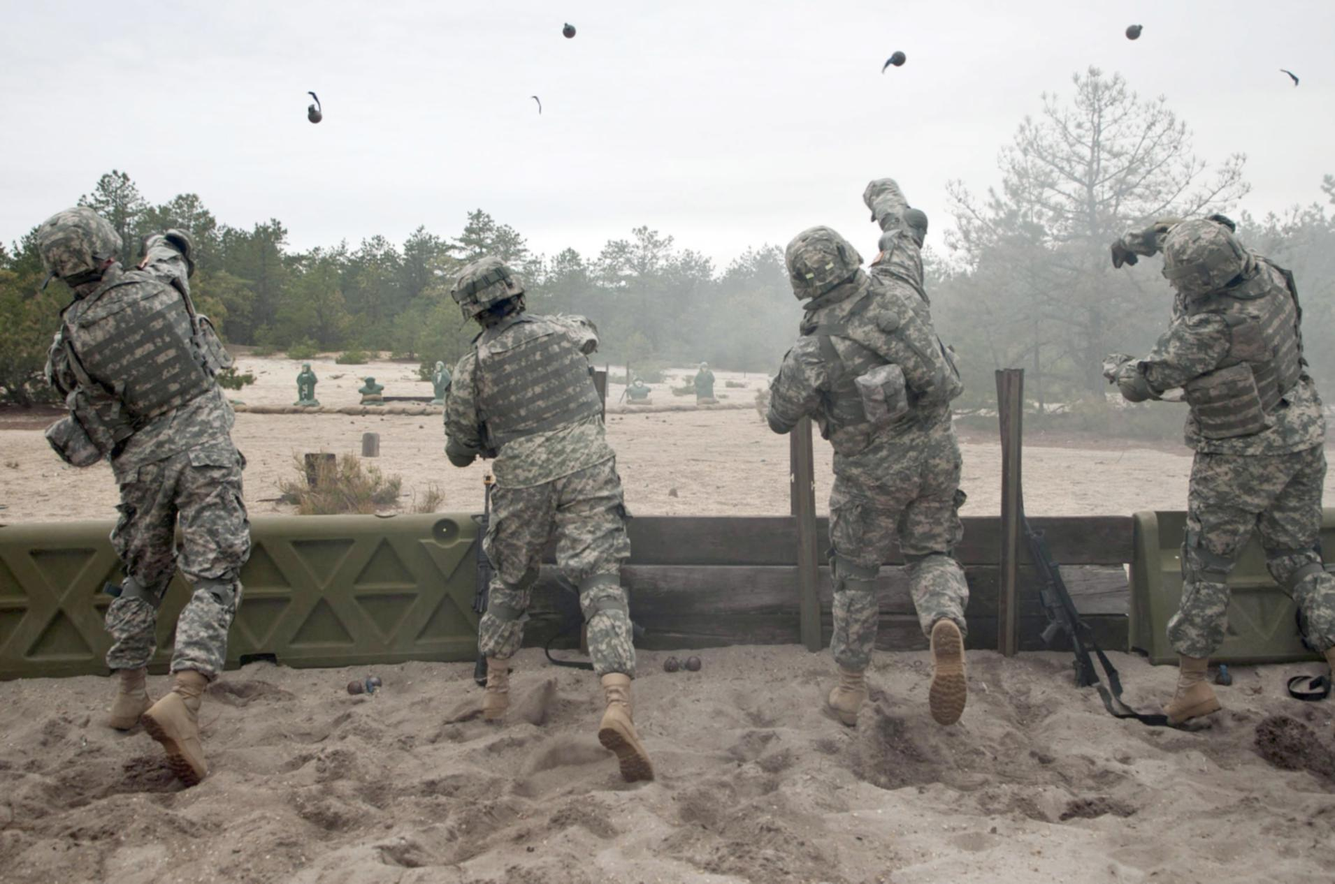Grenade: (304, 87, 322, 127), (881, 49, 907, 75), (1212, 656, 1235, 685), (361, 668, 382, 697), (678, 648, 699, 673), (1123, 19, 1143, 44), (342, 677, 363, 700), (663, 648, 681, 673), (559, 19, 577, 38)
